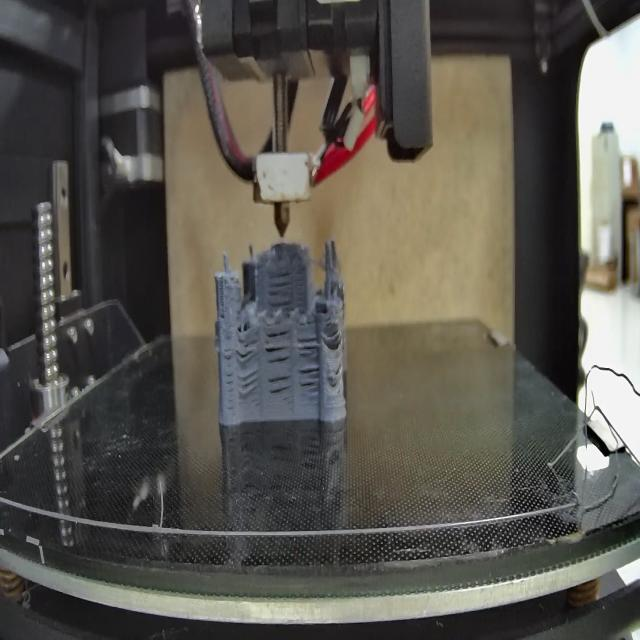cracks: (266, 266, 294, 312), (222, 342, 236, 417), (266, 325, 291, 366), (236, 328, 259, 364), (297, 363, 318, 398), (298, 329, 319, 362), (268, 374, 293, 398), (237, 368, 260, 394), (328, 360, 342, 388), (327, 328, 343, 350), (219, 304, 227, 320)
